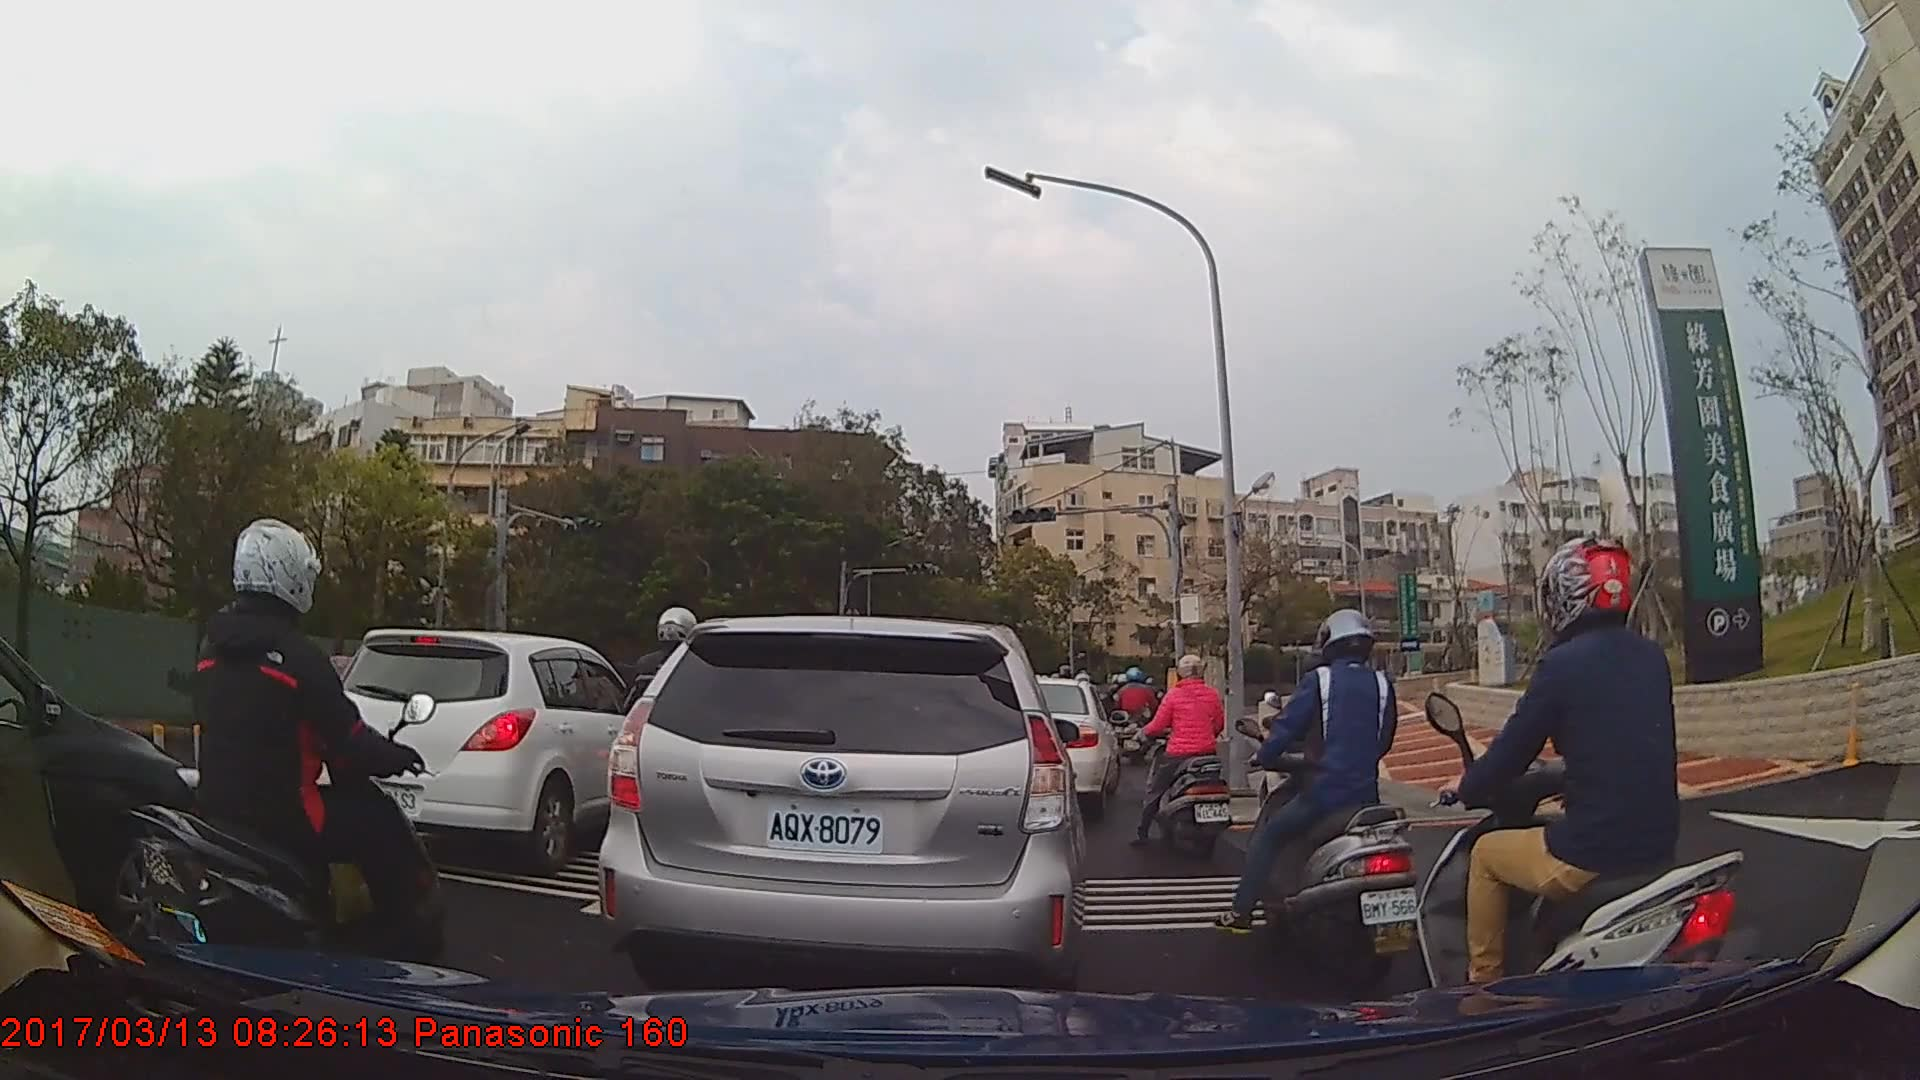rider: (1419, 530, 1746, 1060), (118, 516, 448, 1027), (1242, 613, 1420, 999), (1135, 655, 1236, 863), (1111, 665, 1154, 765)
vehicle: (601, 613, 1088, 1032), (310, 628, 645, 875), (0, 634, 213, 955), (1012, 676, 1120, 812)
